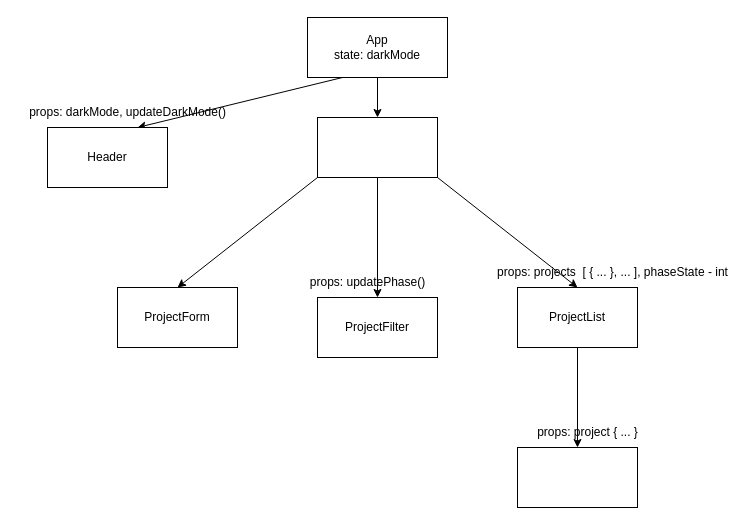
This 754x525 diagram has some shape labels left out. Here are the shapes that lost their labels. From the top down, the centre of each, then its label:
pixel 377 147: ProjectContainer state: projects, phaseState
pixel 577 477: ProjectListItem
